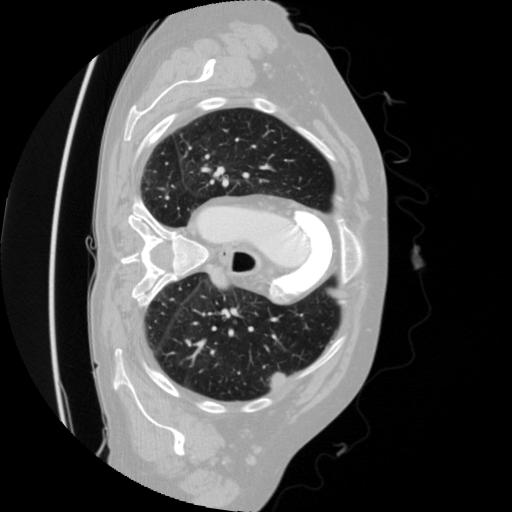nodule: (267, 370, 291, 394)
